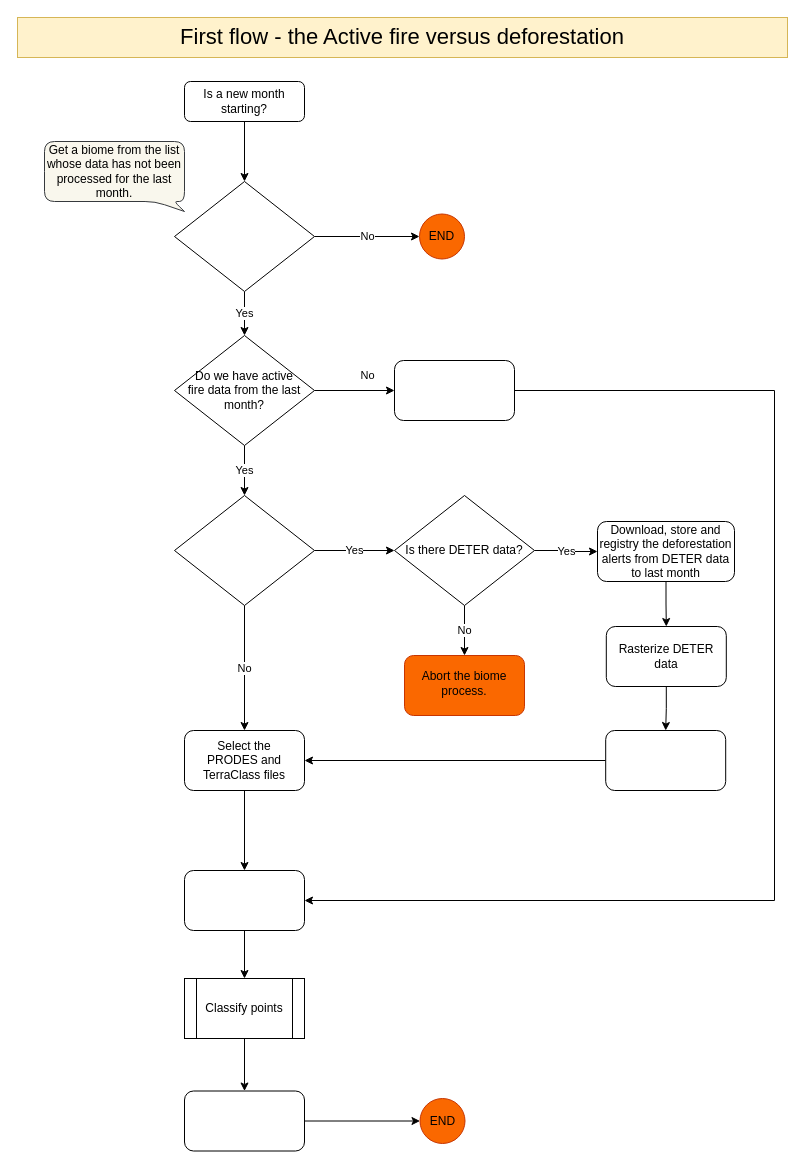
The diagram is 805 pixels wide and 1169 high, and some of its shapes have lost their labels. Here are the shapes that lost their labels. From the top down, the centre of each, then its label:
the point at 244,236: Do you have an unprocessed biome?
the point at 454,390: Download, store and registry
the point at 244,550: Does this biome have DETER?
the point at 665,760: Join to PRODES raster
the point at 244,900: Select the Active fires for the last month
the point at 244,1120: Store data and registry the completed status
